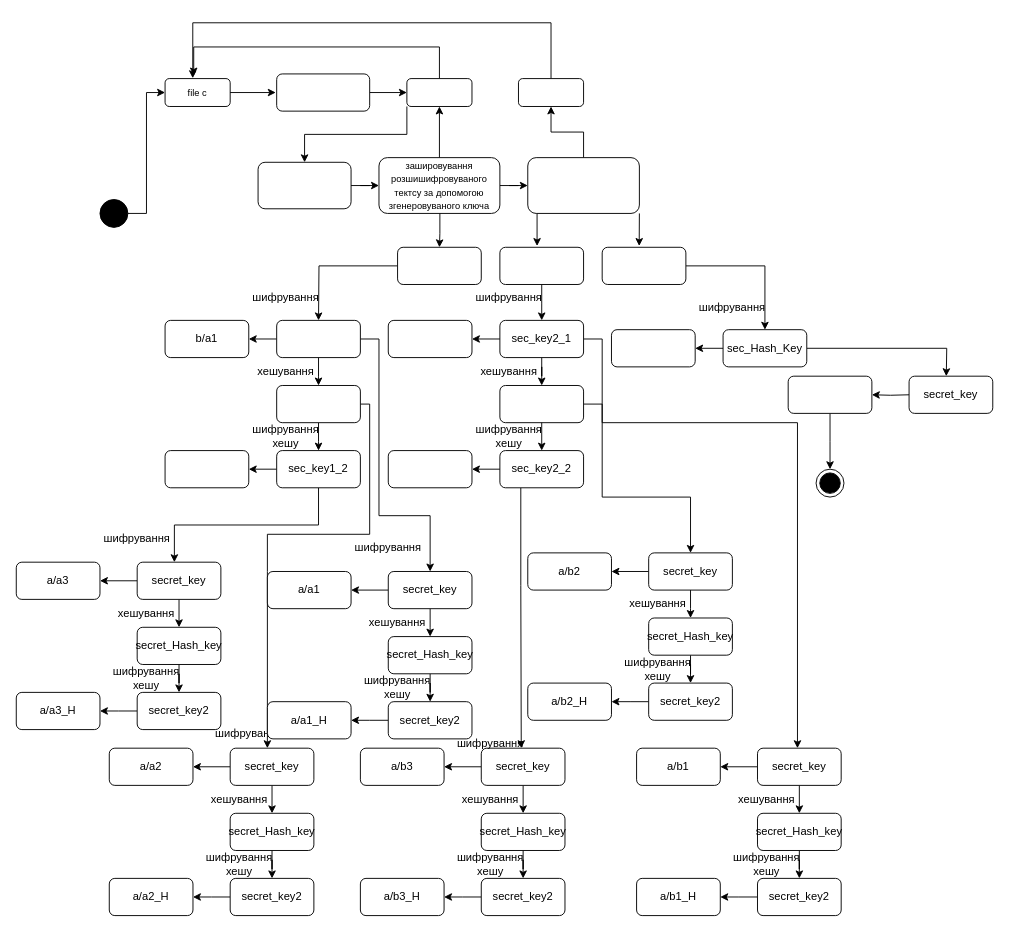
This 1009x932 diagram has some shape labels left out. The shapes that lost their labels are listed below. From the top down, each one's centre as x and y in pixels, then its label:
At (x=323, y=92): "зашифрований текст".
At (x=439, y=92): "std::string temp".
At (x=551, y=92): "std::string temp_Hash".
At (x=304, y=185): "розшифровування за допомогою main key".
At (x=583, y=185): "хешування тексту та шифрування хешового зліпку за допомогою згенерованих ключів".
At (x=439, y=265): "key1".
At (x=541, y=265): "key2".
At (x=643, y=265): "key3".
At (x=318, y=338): "sec_key1_1".
At (x=429, y=338): "b/b1".
At (x=653, y=348): "b/c".
At (x=318, y=404): "sec_key1_2Hesh".
At (x=541, y=404): "sec_key2_2Hesh".
At (x=829, y=394): "a/c".
At (x=206, y=469): "b/a2H".
At (x=429, y=469): "b/b2H".
